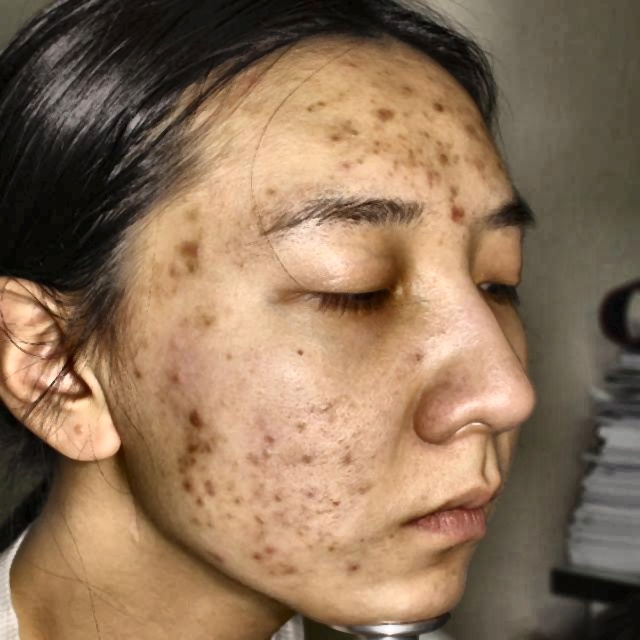pustule: (172, 229, 213, 262), (441, 200, 478, 230), (363, 102, 407, 127), (457, 114, 489, 144), (164, 363, 199, 390), (418, 164, 450, 193), (316, 125, 354, 148), (175, 452, 207, 477), (382, 77, 418, 99), (160, 258, 191, 280), (174, 407, 205, 429), (420, 134, 450, 156), (180, 431, 210, 452), (278, 560, 306, 580), (250, 543, 273, 567), (127, 361, 150, 383), (172, 474, 193, 494), (336, 54, 353, 78), (464, 154, 484, 167), (208, 478, 221, 493)
